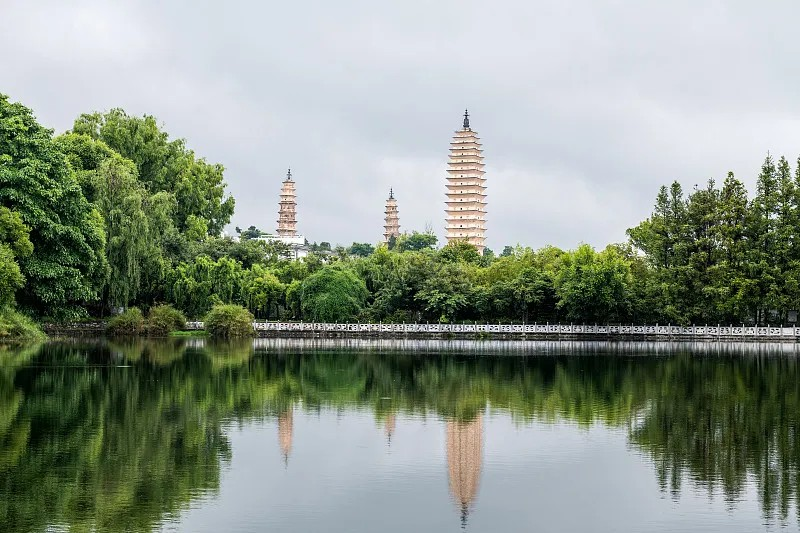ThreePagoda: (444, 109, 489, 251)
